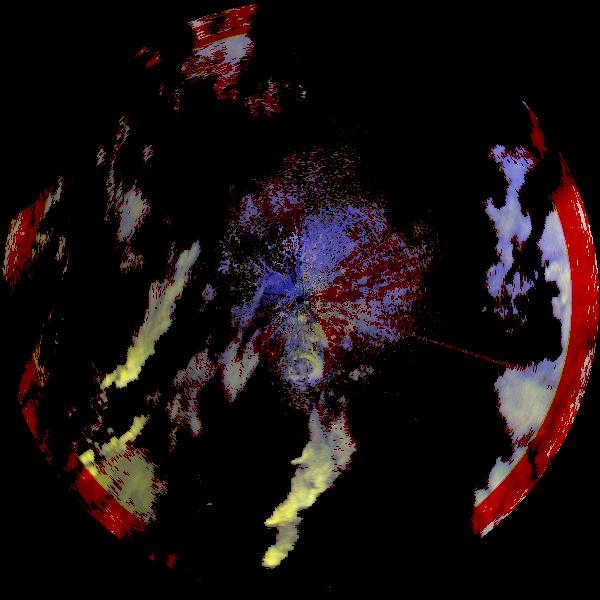roost: (280, 345, 331, 396)
